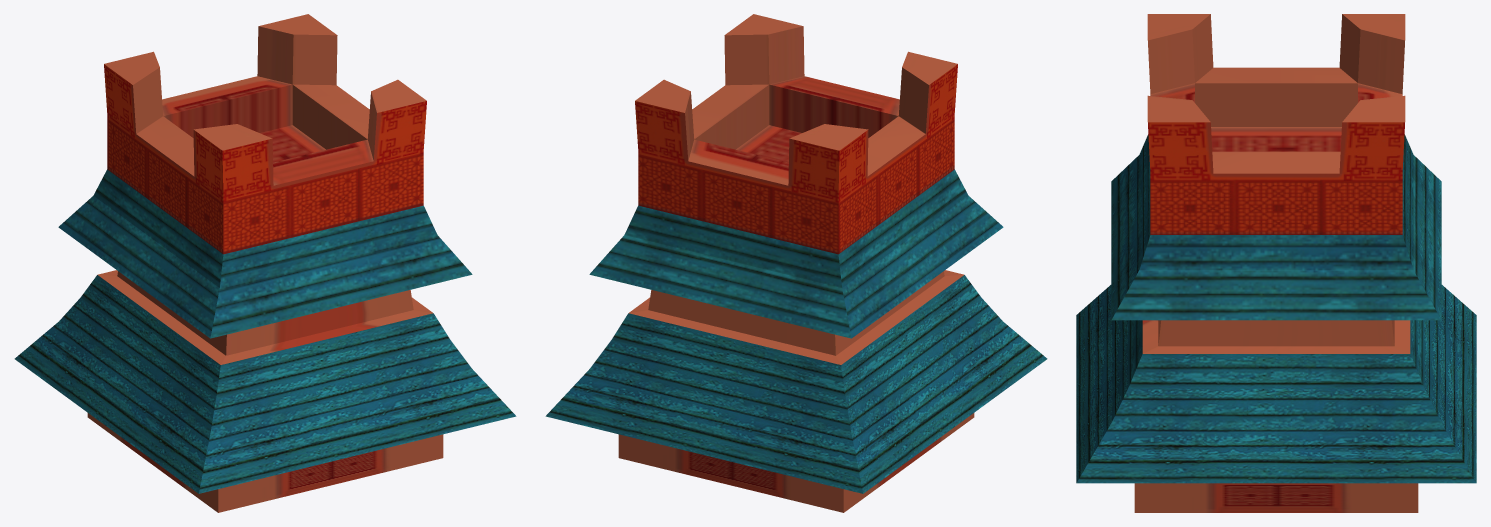
Rendered from tower.FBX.
The picture shows the model from 3 angles, left to right: view 1: azimuth 30°, elevation 25°; view 2: azimuth 150°, elevation 25°; view 3: azimuth 270°, elevation 25°; orthographic projection. The views are drawn at different scales.
Visible parts, largest first — view 1: Box001; view 2: Box001; view 3: Box001.
Part boxes in pixels (x1,y1,x2,y2): Box001: (14,14,516,512); Box001: (545,14,1047,512); Box001: (1076,14,1476,512).
Size of the model in its own units: 63.67 by 68.6 by 63.99.
